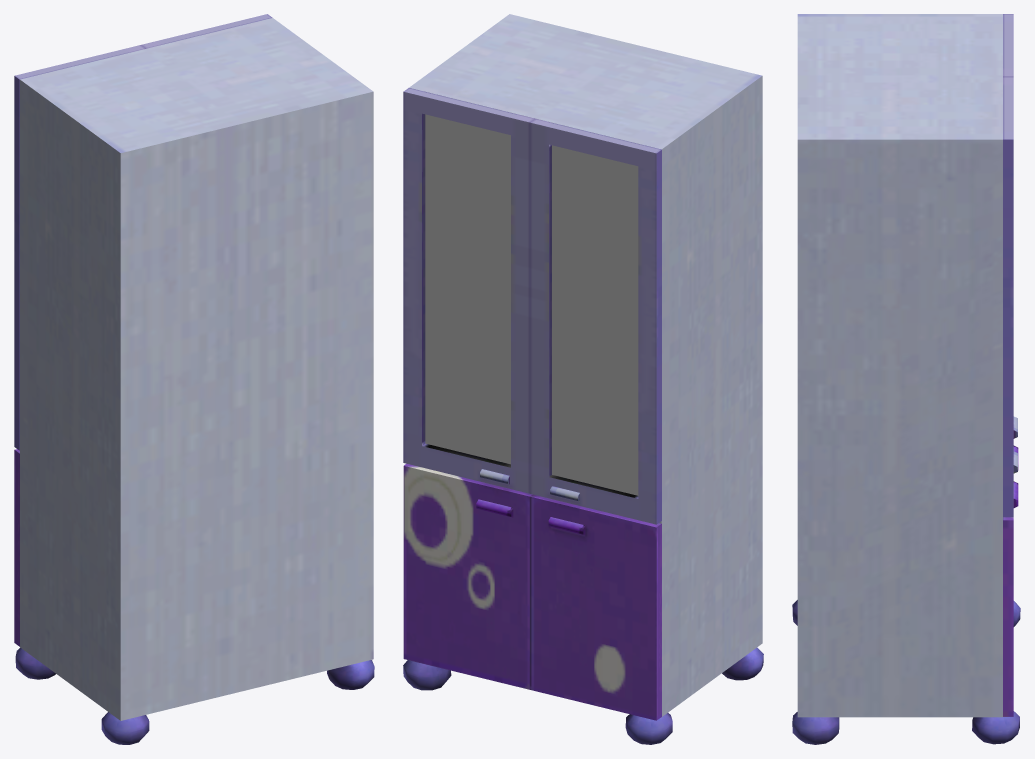
File: furni_0200516_03.FBX
3 views of the same model, side by side, from view 1: azimuth 30°, elevation 25°; view 2: azimuth 150°, elevation 25°; view 3: azimuth 270°, elevation 25° (orthographic).
Parts seen in each view (by area): view 1: furni_0200516_03; view 2: furni_0200516_03; view 3: furni_0200516_03.
Part boxes in pixels (left/top/right/bottom): furni_0200516_03: left=14, top=14, right=374, bottom=744; furni_0200516_03: left=403, top=14, right=763, bottom=744; furni_0200516_03: left=792, top=14, right=1020, bottom=744.
Bounding box in the file's own units: 84.47 × 180 × 61.46.
